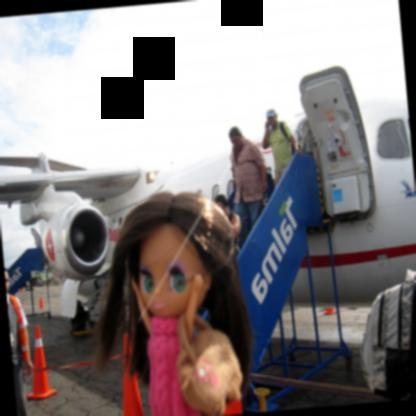backpack: (360, 279, 416, 401), (280, 121, 289, 139)
handbag: (176, 309, 244, 416), (257, 194, 268, 218)
suitcase: (257, 197, 269, 221)
